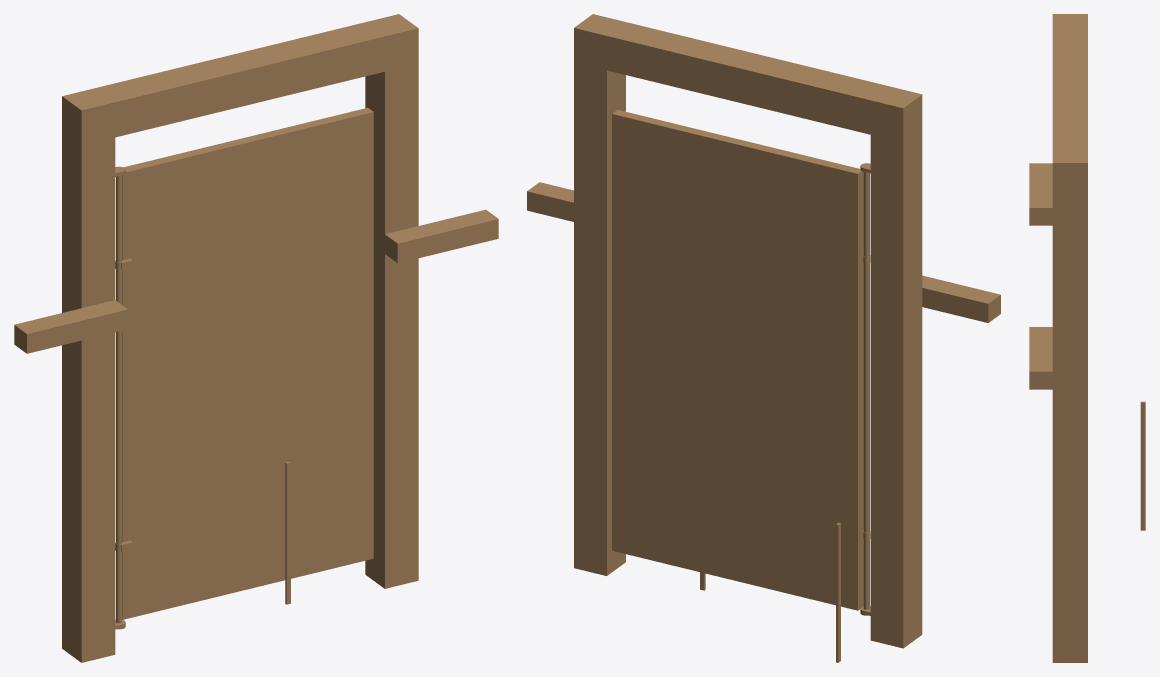
The model's file is assembly.glb.
3 views of the same model, side by side, from view 1: azimuth 30°, elevation 25°; view 2: azimuth 150°, elevation 25°; view 3: azimuth 270°, elevation 25° (orthographic). The views are drawn at different scales.
Visible parts, largest first — view 1: GATE_Door, GATE_Post_Left, GATE_Post_Right, GATE_Beam, GATE_Connector_Left, GATE_Connector_Right, GATE_Axis, GATE_Stop_Closed; view 2: GATE_Door, GATE_Post_Left, GATE_Post_Right, GATE_Beam, GATE_Axis, GATE_Connector_Left, GATE_Connector_Right, GATE_Stop_Open; view 3: GATE_Post_Right, GATE_Beam, GATE_Connector_Left, GATE_Connector_Right, GATE_Stop_Open.
Boxes of the visible parts, <box> form: GATE_Door: <box>122,107,373,619</box>; GATE_Post_Left: <box>62,131,115,662</box>; GATE_Post_Right: <box>365,63,418,588</box>; GATE_Beam: <box>62,14,418,145</box>; GATE_Connector_Left: <box>14,300,127,353</box>; GATE_Connector_Right: <box>385,209,498,263</box>; GATE_Axis: <box>116,175,121,621</box>; GATE_Stop_Closed: <box>285,461,290,604</box>; GATE_Door: <box>612,110,863,610</box>; GATE_Post_Left: <box>870,129,922,648</box>; GATE_Post_Right: <box>574,62,625,575</box>; GATE_Beam: <box>574,14,922,142</box>; GATE_Axis: <box>863,172,869,608</box>; GATE_Connector_Left: <box>922,275,1000,322</box>; GATE_Connector_Right: <box>527,182,573,221</box>; GATE_Stop_Open: <box>836,522,840,662</box>; GATE_Post_Right: <box>1052,194,1087,662</box>; GATE_Beam: <box>1052,14,1087,194</box>; GATE_Connector_Left: <box>1029,163,1052,225</box>; GATE_Connector_Right: <box>1029,327,1052,389</box>; GATE_Stop_Open: <box>1140,401,1145,530</box>.
Bounding box in the file's own units: 2.1 × 2.35 × 0.494.
